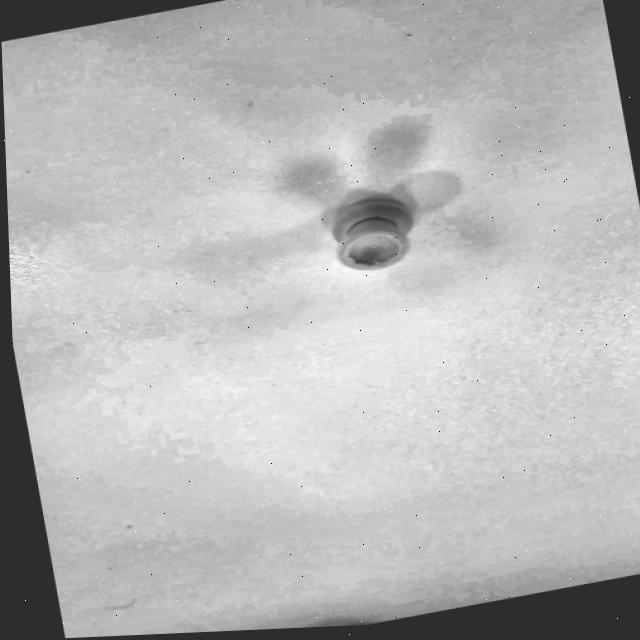white-rook: (285, 167, 446, 291)
